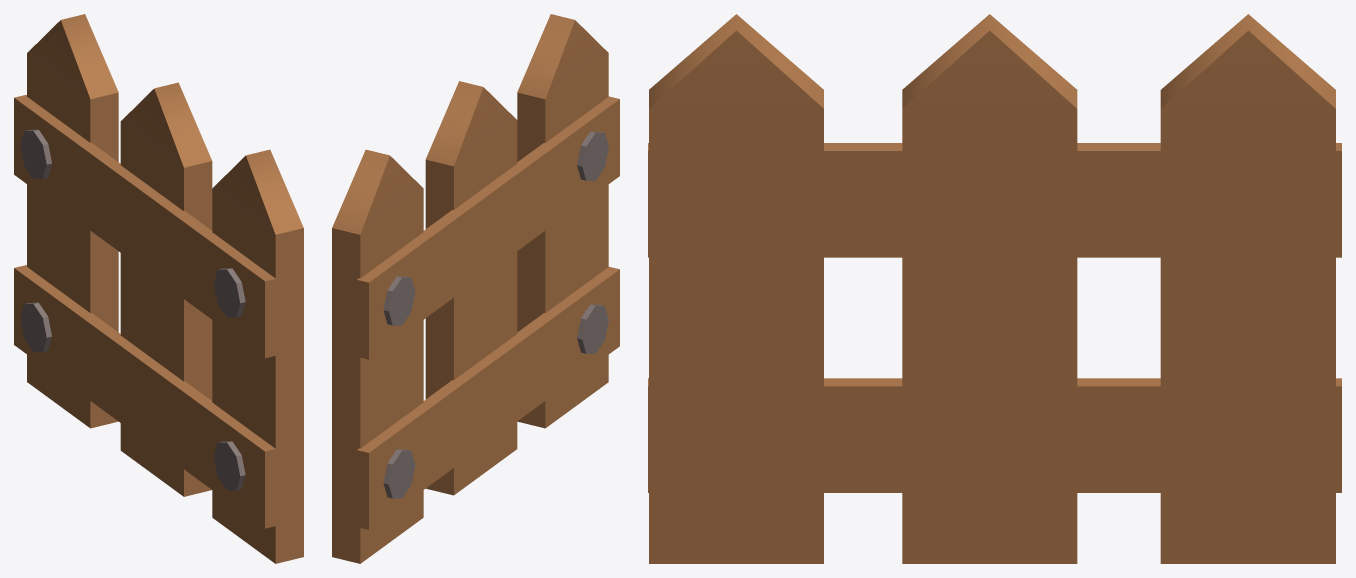
File: Fence.fbx
The picture shows the model from 3 angles, left to right: view 1: azimuth 30°, elevation 25°; view 2: azimuth 150°, elevation 25°; view 3: azimuth 270°, elevation 25°; orthographic projection. The views are drawn at different scales.
Parts seen in each view (by area): view 1: pCube6; view 2: pCube6; view 3: pCube6.
Boxes of the visible parts, x1,y1,x2,y2 form: pCube6: (14,14,303,563); pCube6: (332,14,619,563); pCube6: (648,14,1341,563).
Size of the model in its own units: 17.4 by 139 by 164.
